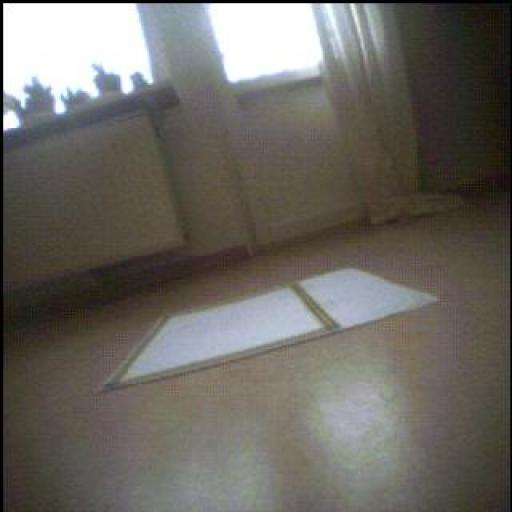Pad: (105, 270, 438, 390)
